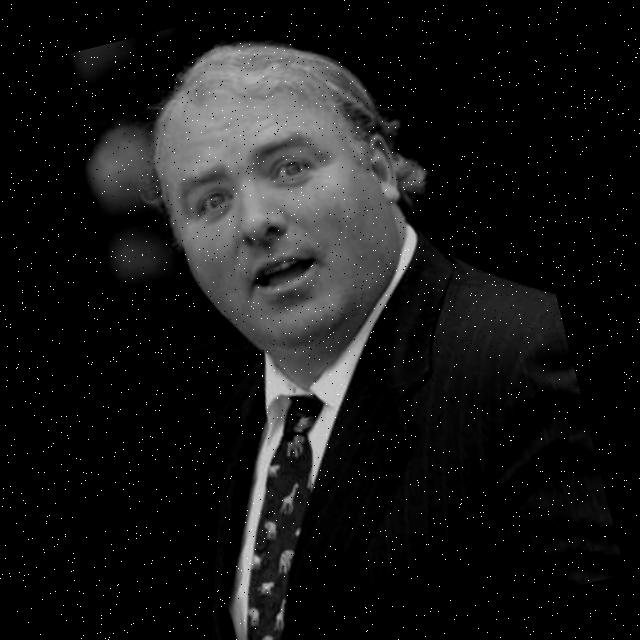face: (129, 8, 447, 391)
